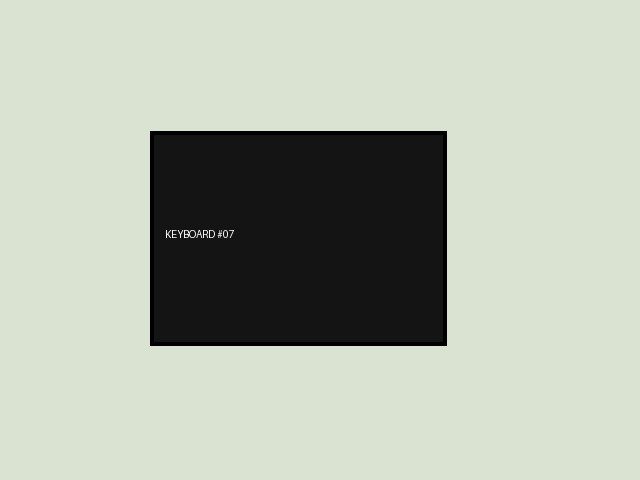keyboard: (150, 131, 446, 345)
